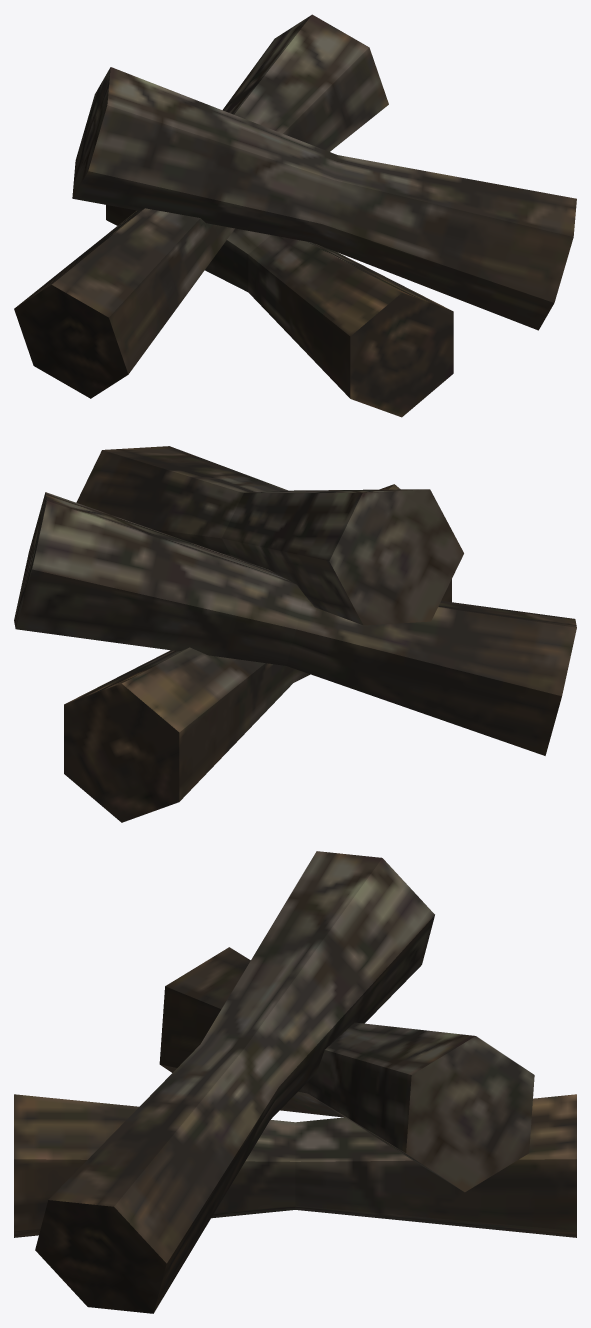
File: campfire_05.fbx
3 renders of one model, top to bottom at view 1: azimuth 30°, elevation 25°; view 2: azimuth 150°, elevation 25°; view 3: azimuth 270°, elevation 25°, orthographic. The views are drawn at different scales.
Parts seen in each view (by area): view 1: obj0.277; view 2: obj0.277; view 3: obj0.277.
Part boxes in pixels (x1,y1,x2,y2): obj0.277: (14, 14, 576, 417); obj0.277: (14, 446, 576, 822); obj0.277: (14, 851, 576, 1313).
Bounding box in the file's own units: 1.9 × 0.9773 × 1.63.
